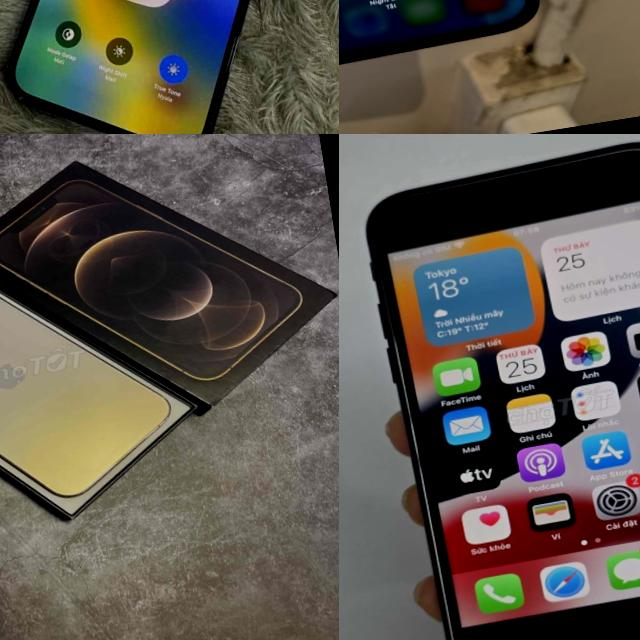scratch: (377, 290, 462, 640)
